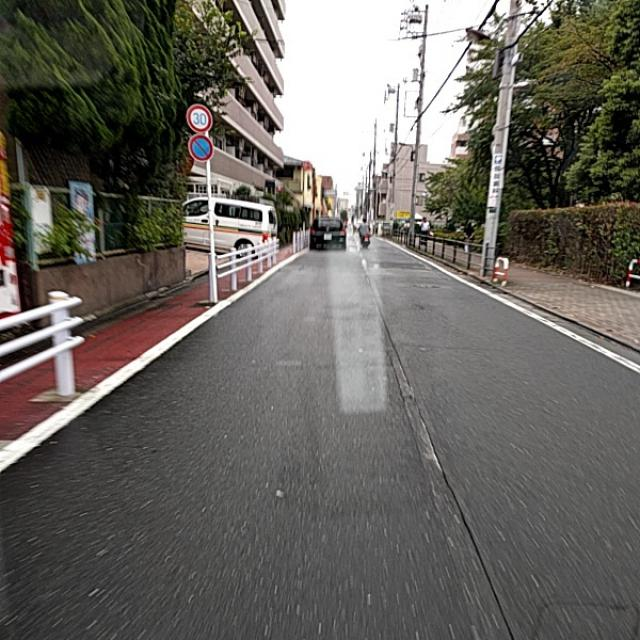pothole: (408, 419, 503, 562)
